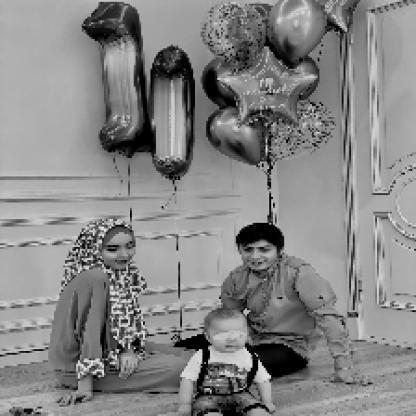child: (176, 308, 280, 416)
